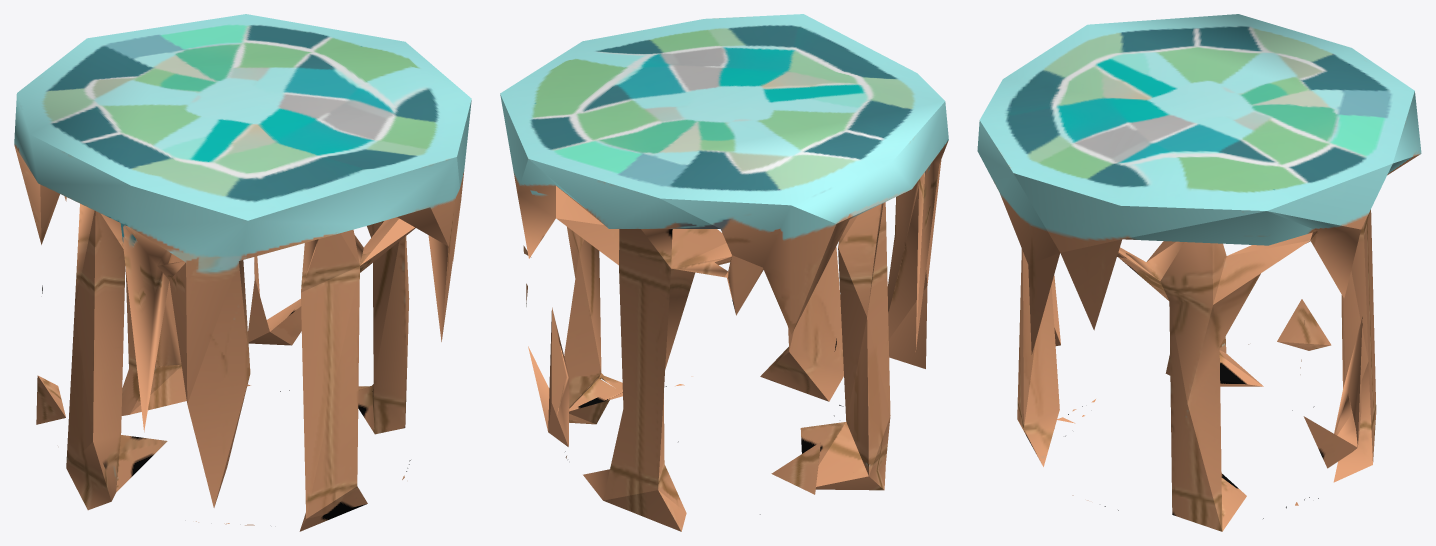
The model's file is seavilla-mosaic-side-table.glb.
The picture shows the model from 3 angles, left to right: view 1: azimuth 30°, elevation 25°; view 2: azimuth 150°, elevation 25°; view 3: azimuth 270°, elevation 25°; orthographic projection. The views are drawn at different scales.
Parts seen in each view (by area): view 1: geometry_0.001; view 2: geometry_0.001; view 3: geometry_0.001.
Part boxes in pixels (bbox=[...]): geometry_0.001: bbox=[14, 14, 471, 531]; geometry_0.001: bbox=[500, 14, 948, 531]; geometry_0.001: bbox=[977, 14, 1421, 531].
Bounding box in the file's own units: 0.9965 × 0.8889 × 1.
Materials: 1 (1 with a texture image).
